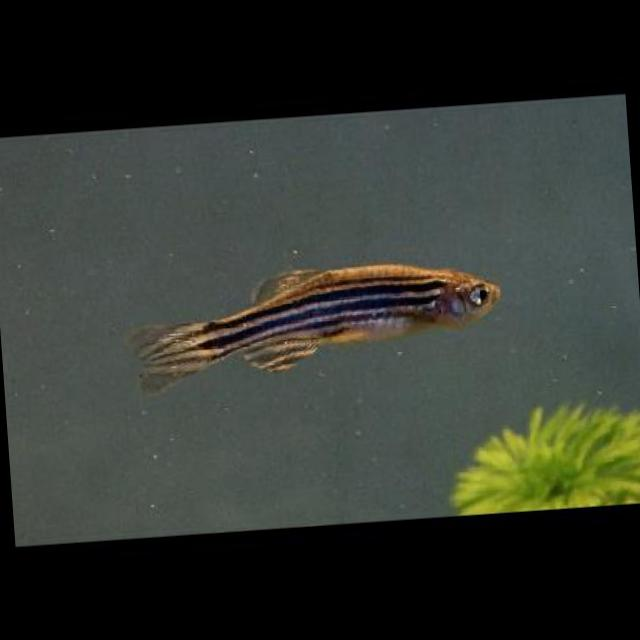ZebraFish: (124, 252, 510, 394)
